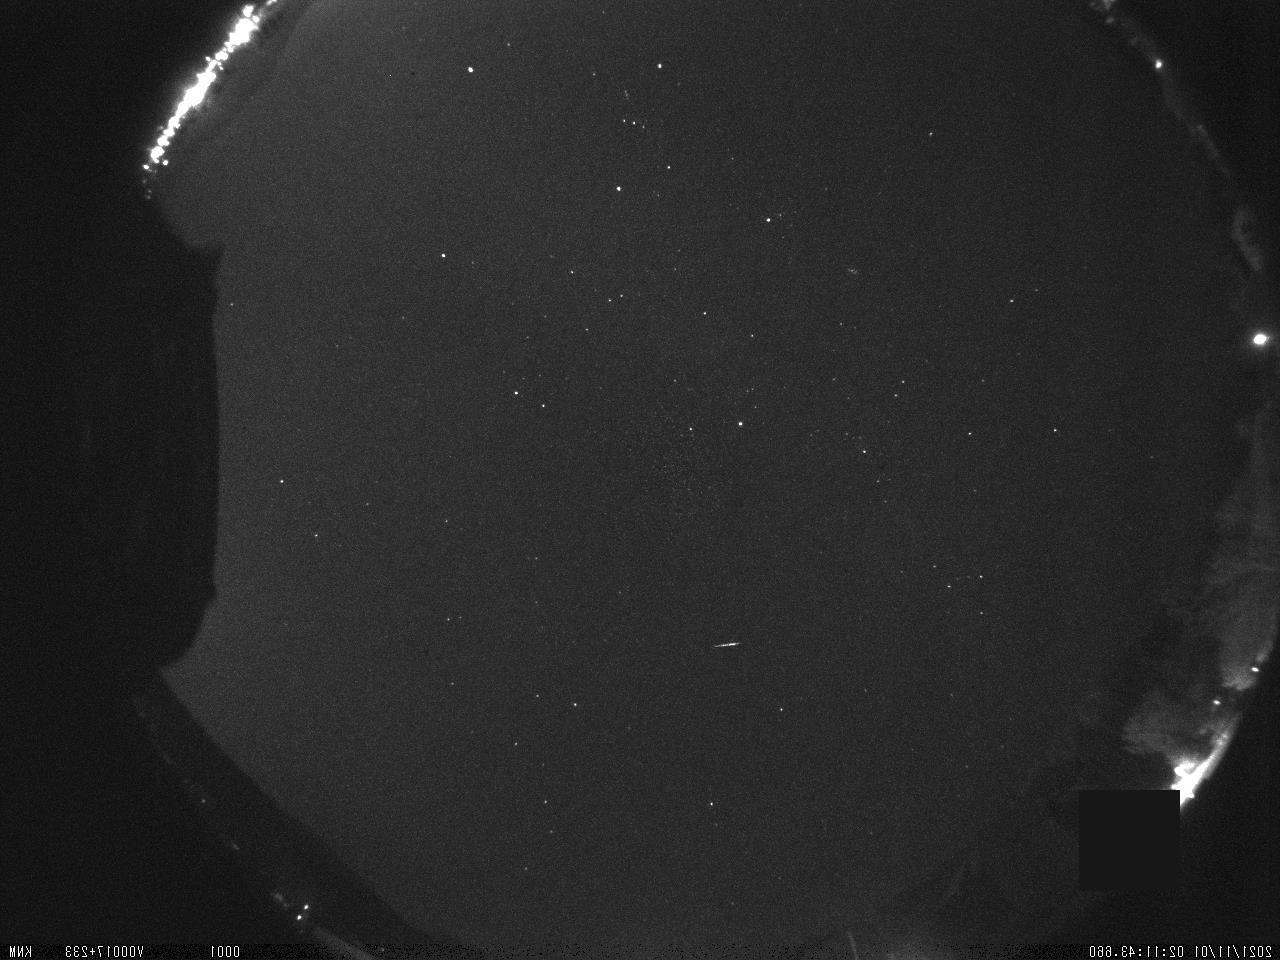meteor: (708, 637, 745, 652)
